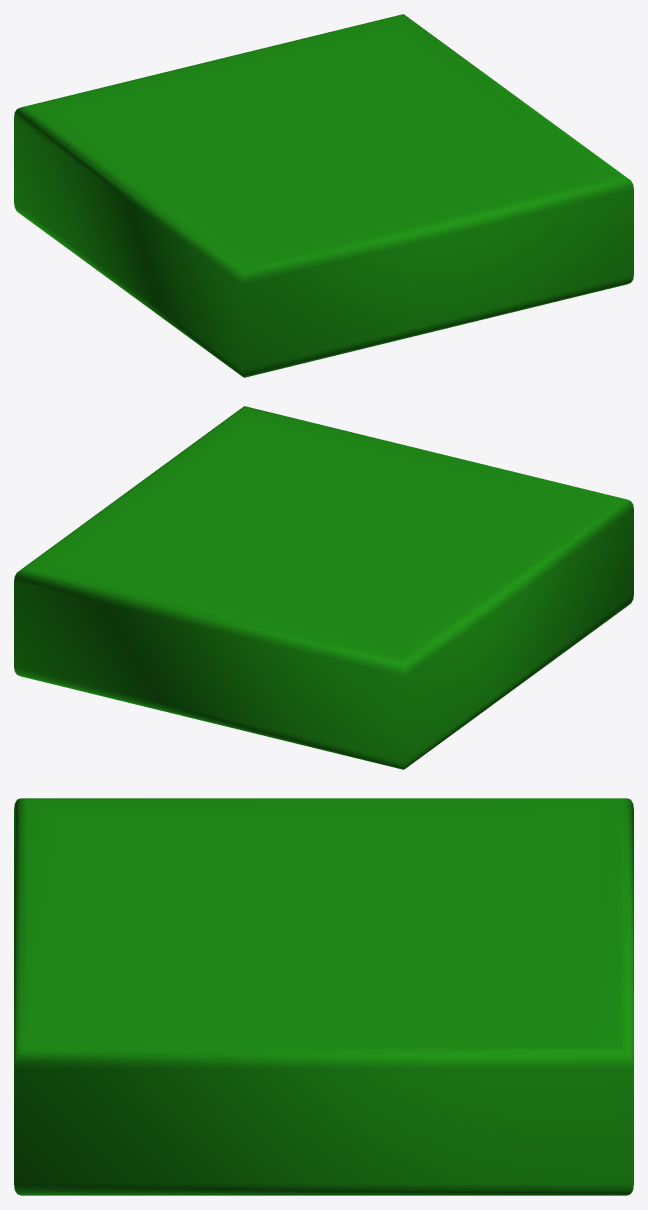
File: PlatForm_02.fbx
3 views of the same model, one above another, from view 1: azimuth 30°, elevation 25°; view 2: azimuth 150°, elevation 25°; view 3: azimuth 270°, elevation 25° (orthographic). The views are drawn at different scales.
Visible parts, largest first — view 1: PlatForm_02; view 2: PlatForm_02; view 3: PlatForm_02.
Part boxes in pixels (x1=…): PlatForm_02: x1=14, y1=14, x2=633, y2=377; PlatForm_02: x1=14, y1=406, x2=633, y2=769; PlatForm_02: x1=14, y1=798, x2=633, y2=1195.
Bounding box in the file's own units: 3.98 × 4.04 × 1.05.
